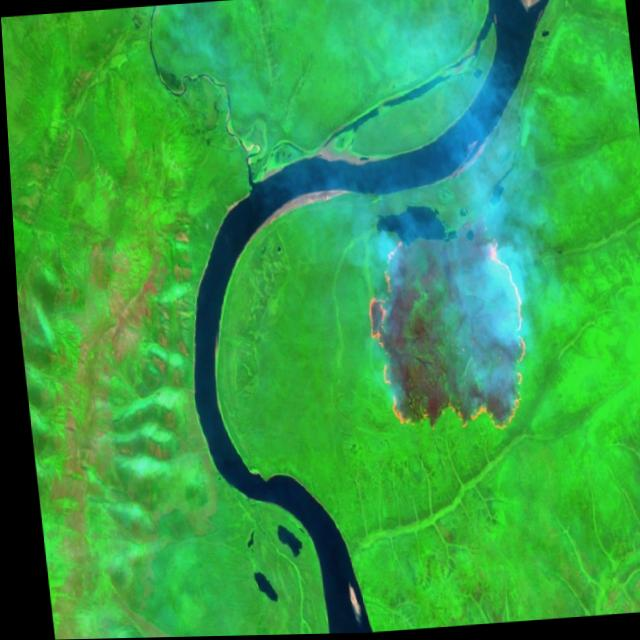fire: (352, 228, 534, 439)
